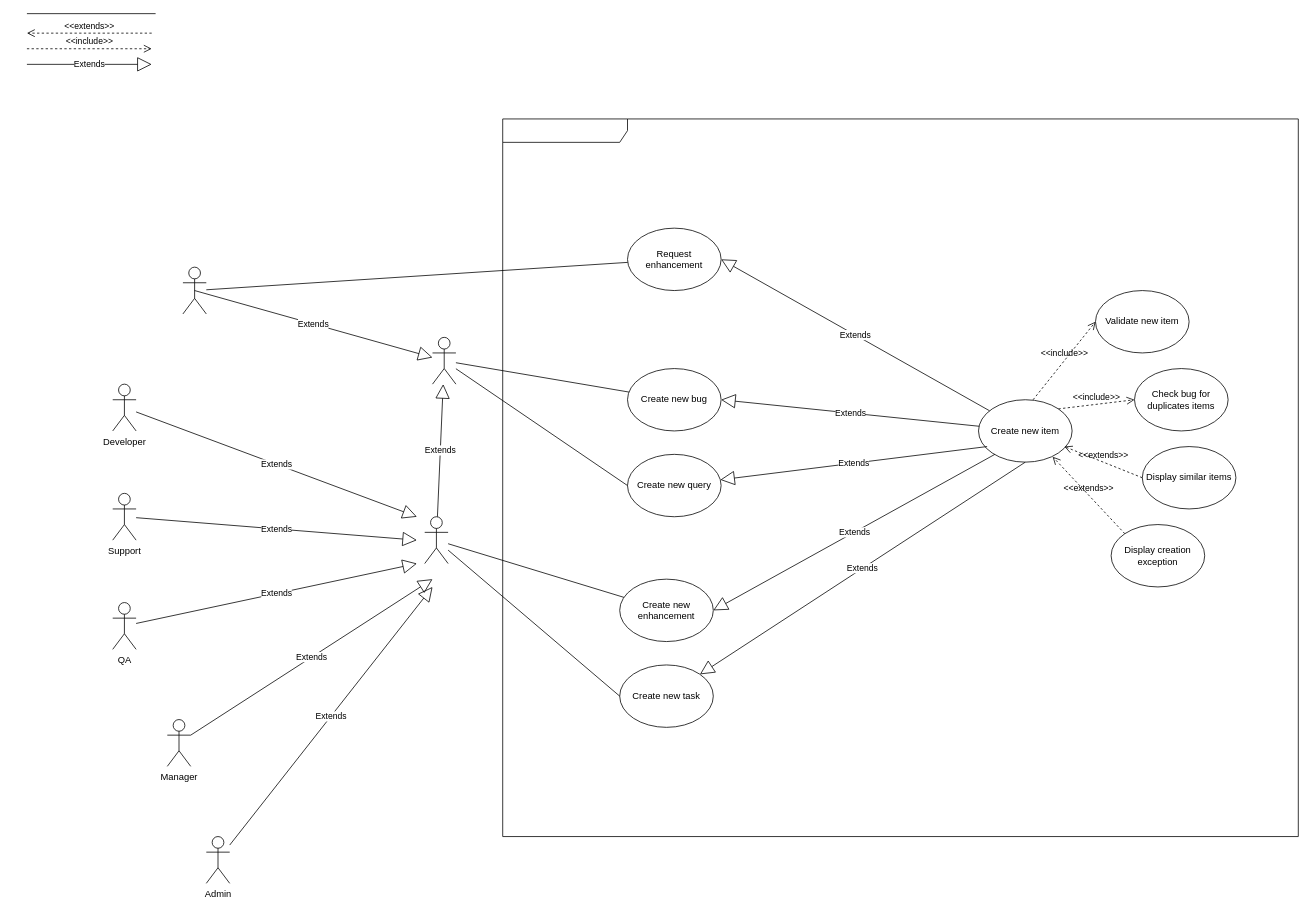
Image size: 1312x913. Some labels were removed from this diagram. Here are the shapes that lost their labels. From the top down, the centre of each, then its label:
At pixel 194 290: "Customer".
At pixel 444 360: "User".
At pixel 900 477: "Sloth".
At pixel 436 540: "Internal User".
